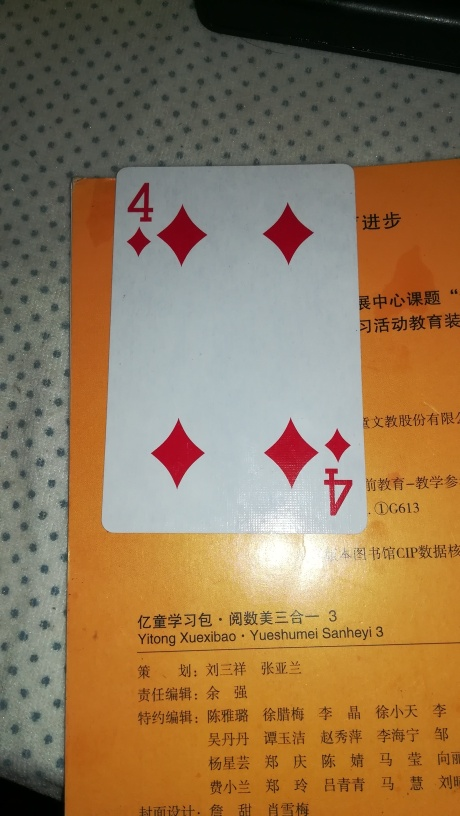fk 4: (101, 163, 374, 538)
